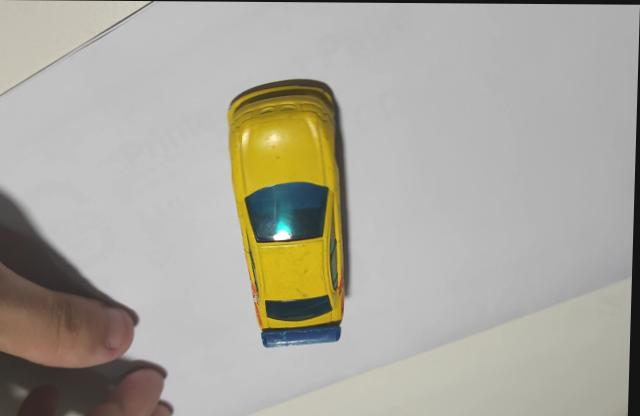02_OZSOME: (227, 78, 352, 347)
